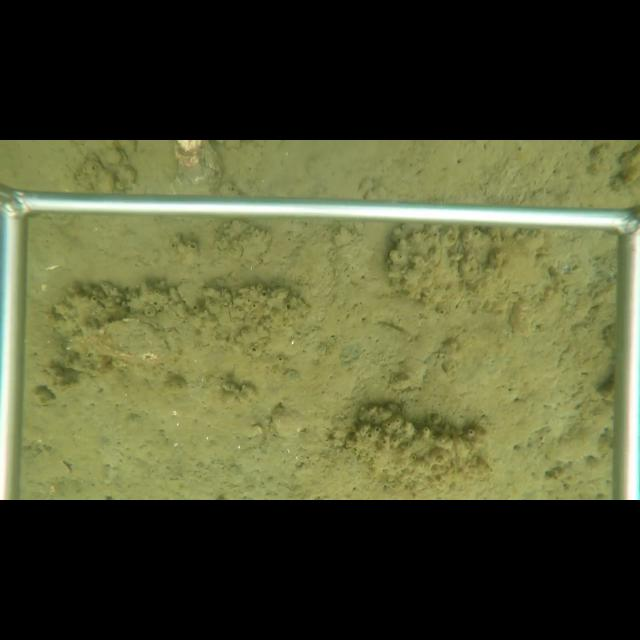Oyster-Closed: (387, 226, 470, 317), (63, 317, 175, 368), (168, 141, 224, 192)
